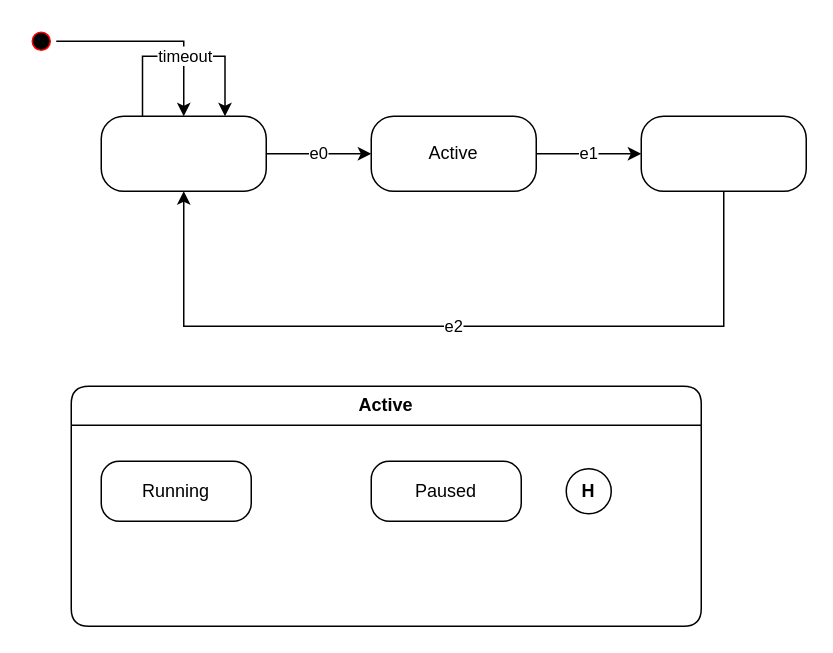
This 833x653 diagram has some shape labels left out. Here are the shapes that lost their labels. From the top down, the centre of each, then its label:
the point at 183,153: Idle
the point at 723,153: Error
